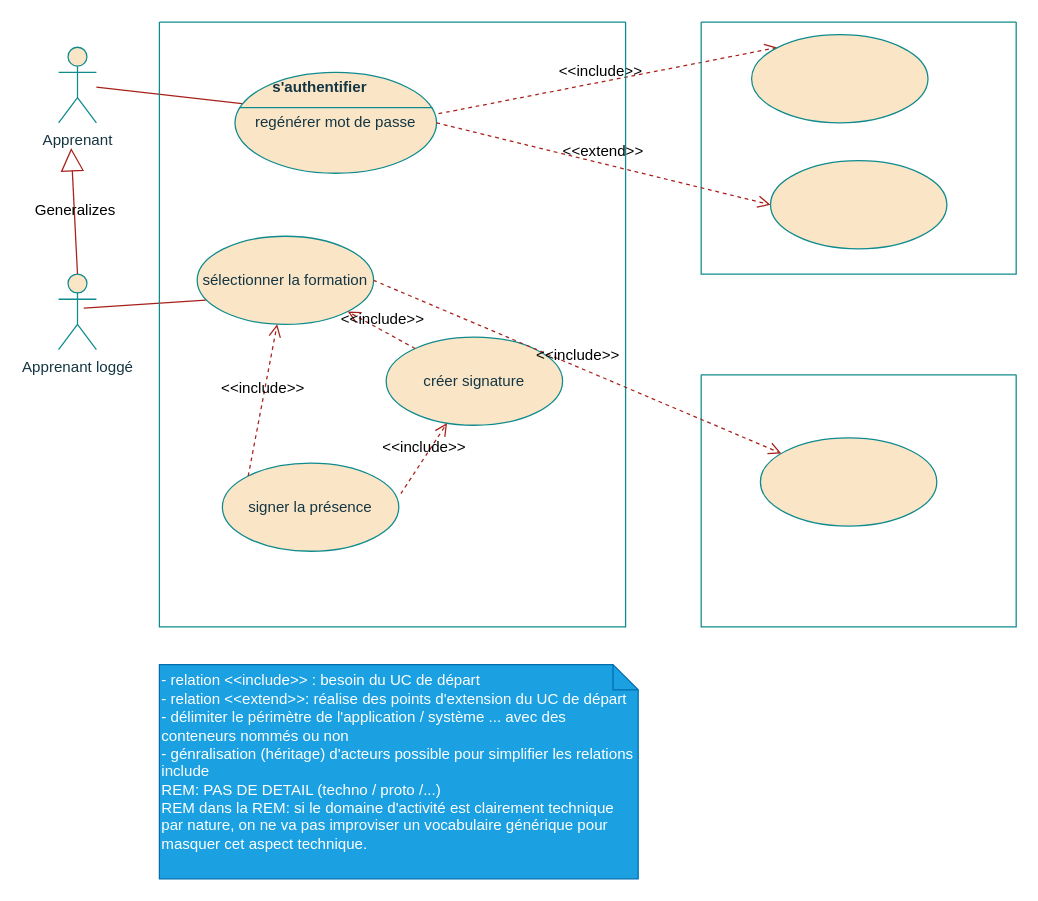
The diagram is 1038 pixels wide and 901 high, and some of its shapes have lost their labels. Here are the shapes that lost their labels. From the top down, the centre of each, then its label:
At (x=839, y=78): "utiliser l'authenfication centralisée".
At (x=858, y=204): "régénérer le mot de passe".
At (x=848, y=481): "chercher les données formations".
